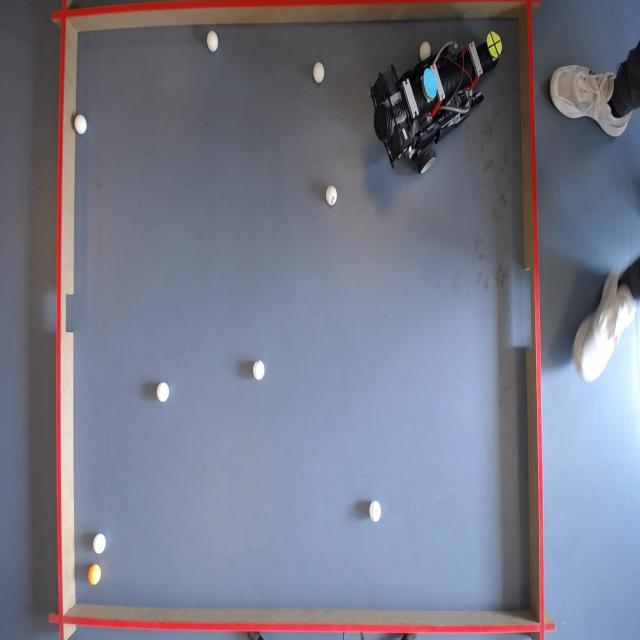orange: (90, 564, 104, 586)
robot: (366, 34, 508, 178)
robot-front: (486, 31, 504, 60)
robot-rear: (422, 69, 440, 101)
white: (74, 114, 88, 136), (324, 184, 338, 205), (158, 382, 172, 403), (252, 360, 266, 381), (313, 62, 326, 84), (368, 502, 381, 524), (207, 31, 220, 52), (94, 533, 107, 554), (419, 41, 432, 60)
